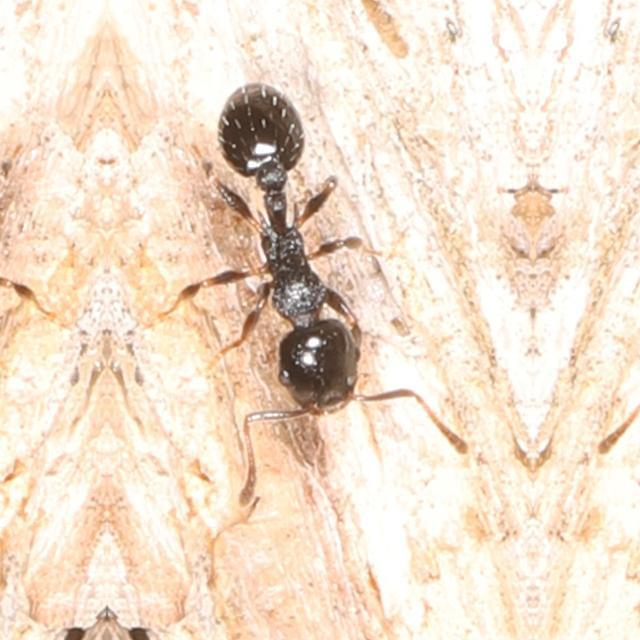Temnothorax: (177, 39, 393, 447)
